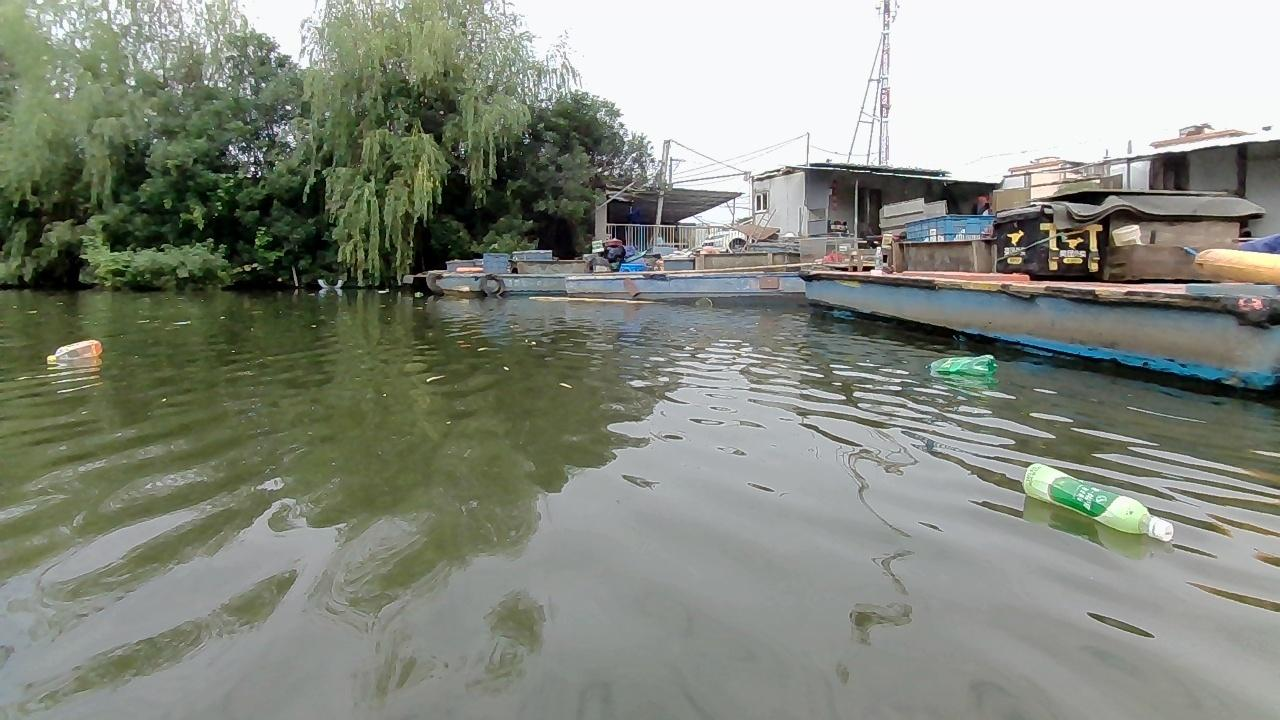bottle: (1016, 457, 1172, 547), (928, 349, 997, 379), (47, 338, 103, 363)
